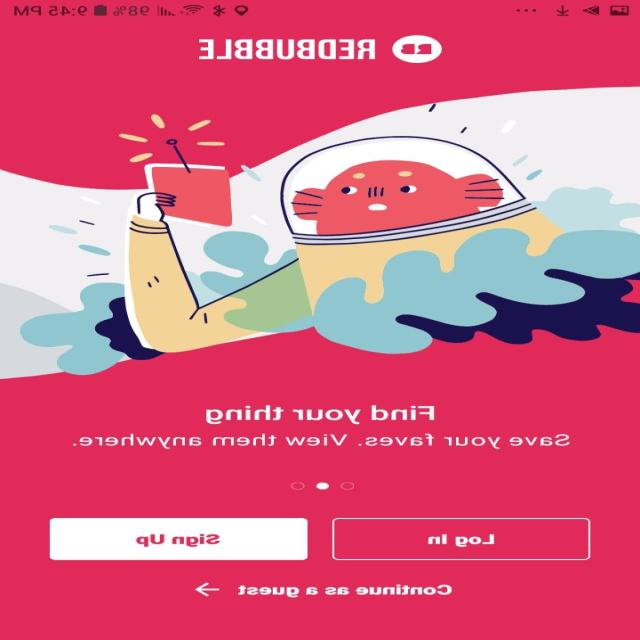Icon: (196, 582, 222, 596)
Image: (1, 86, 640, 380), (392, 34, 444, 64)
Text: (73, 433, 571, 449), (206, 404, 436, 424), (199, 38, 376, 60), (238, 584, 452, 598)
TextButton: (49, 518, 308, 560), (333, 518, 591, 560)
